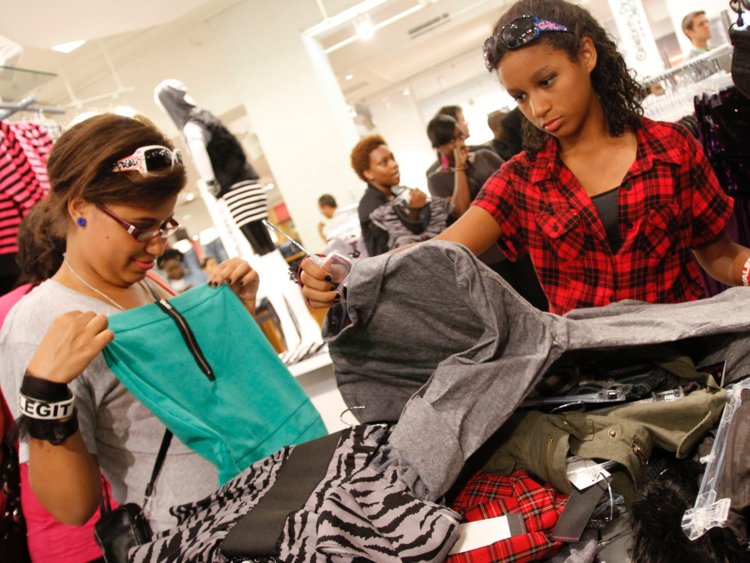Age_20_30: (484, 3, 604, 141), (349, 140, 414, 188), (427, 121, 468, 157), (680, 12, 716, 41)
Age_30_40: (53, 117, 195, 287)
E_Black: (53, 117, 195, 287), (484, 3, 604, 141), (349, 140, 414, 188), (427, 121, 468, 157)
E_White: (680, 12, 716, 41)
Emotion_Neutral: (53, 117, 195, 287), (484, 3, 604, 141), (349, 140, 414, 188), (427, 121, 468, 157), (680, 12, 716, 41)
G_ Female: (53, 117, 195, 287), (484, 3, 604, 141), (349, 140, 414, 188), (427, 121, 468, 157)
G_Male: (680, 12, 716, 41)
Not_Face: (151, 81, 195, 111)
